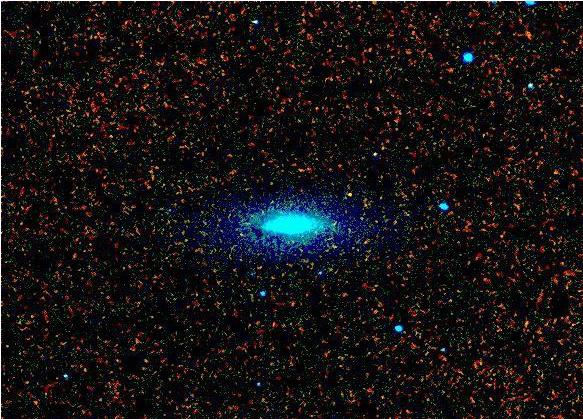star: (335, 179, 365, 209)
